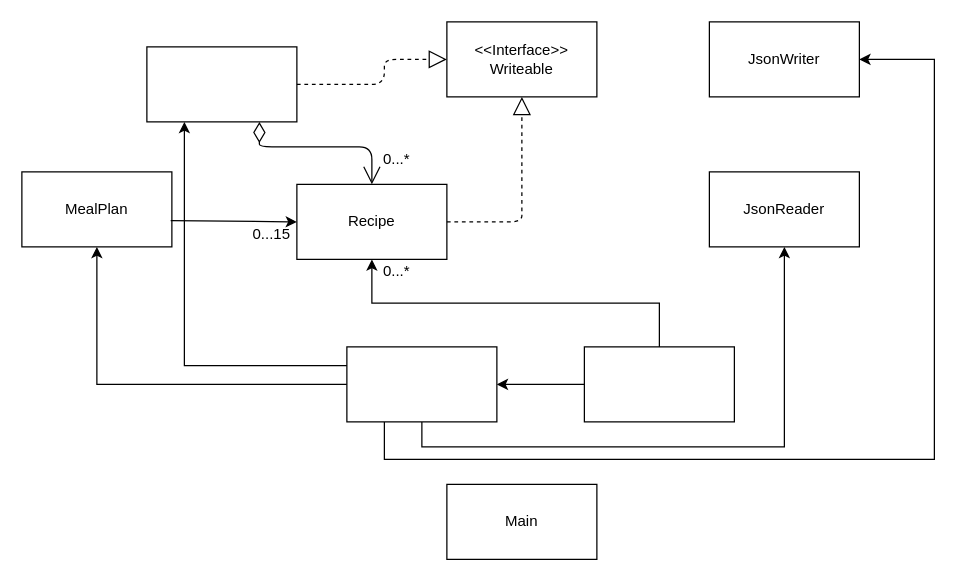
The diagram is 966 pixels wide and 581 high, and some of its shapes have lost their labels. The shapes that lost their labels are listed below. From the top down, each one's centre as x and y in pixels, then its label:
At [221,84]: "RecipeBook".
At [421,384]: "MealPlanApp".
At [658,384]: "MainMenu".
